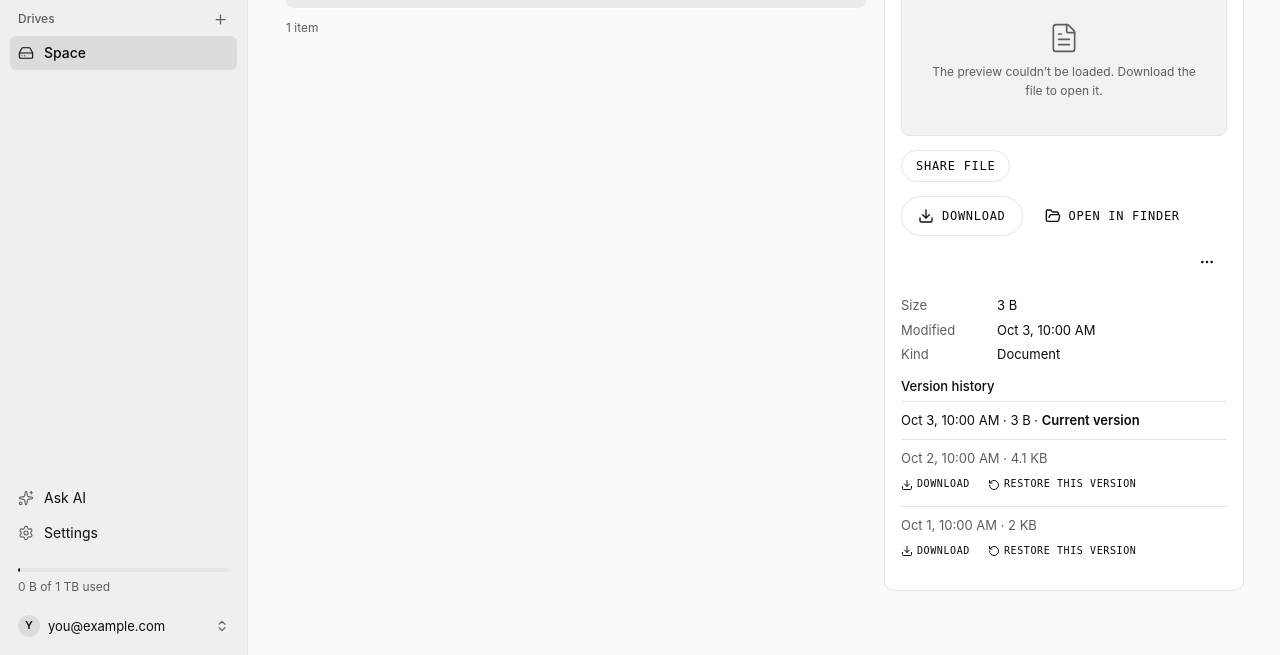
Test: keeps a failed restore in the confirmation and says nothing was changed
(page scrolled)
Expected: the number of list items is 3, [901,401,1227,439]; [901,439,1227,506]; [901,506,1227,572]
Click the button with aria-label "Restore the version from" at [1062, 551], box [980,539,1144,563]
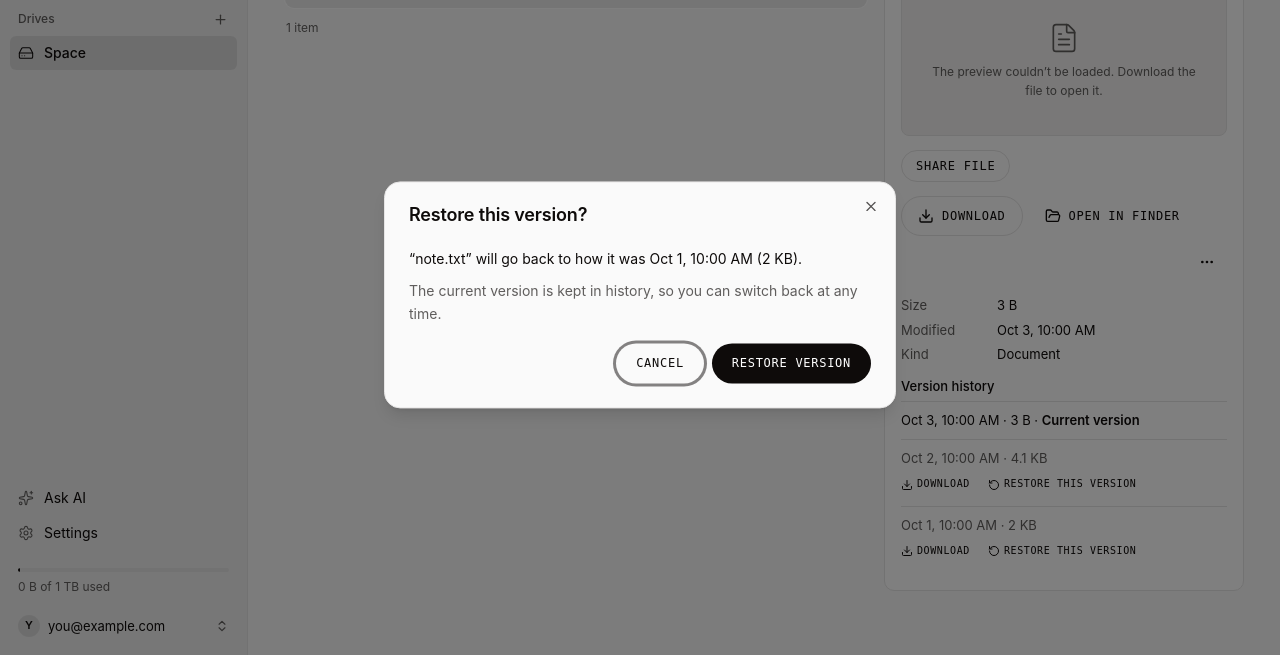
Click the button "Restore version" at [791, 364], box [712,344,871,384]
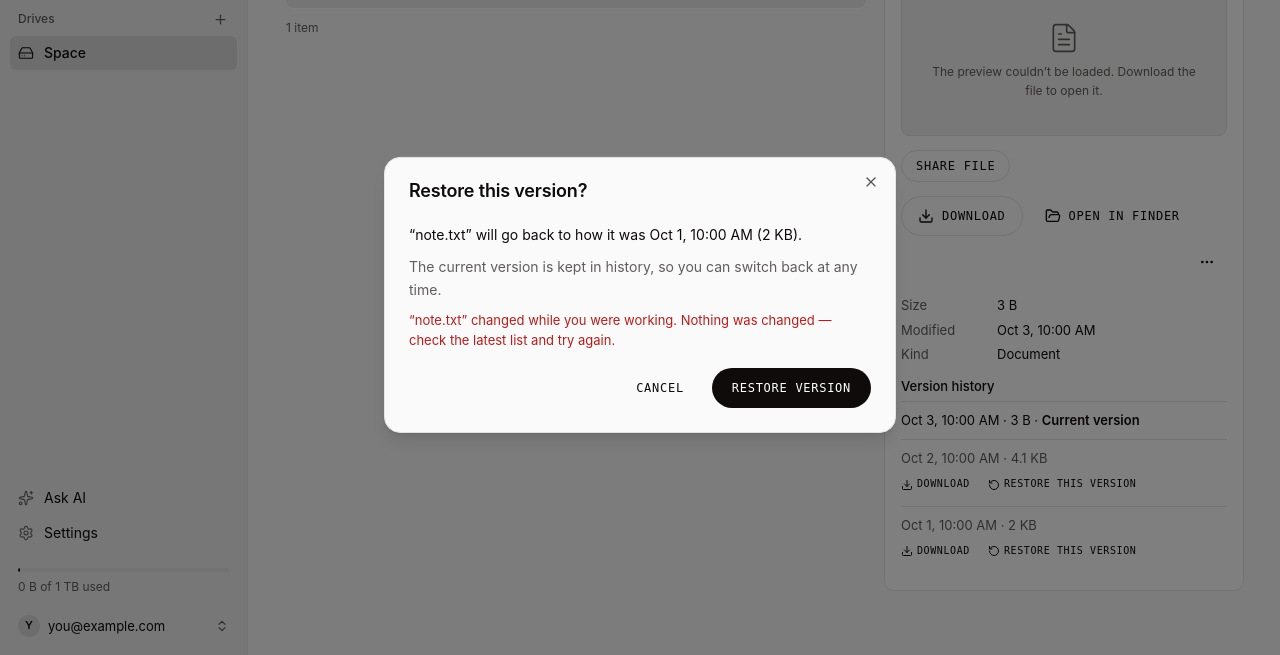
Result: the dialog "Restore this version?" is shown at [384,157,896,433]
Result: the message shows "“note.txt” changed while you were working. Nothing was changed" at [409,312,831,348]
Click the button "Cancel" at [660, 388], box [616,368,704,408]
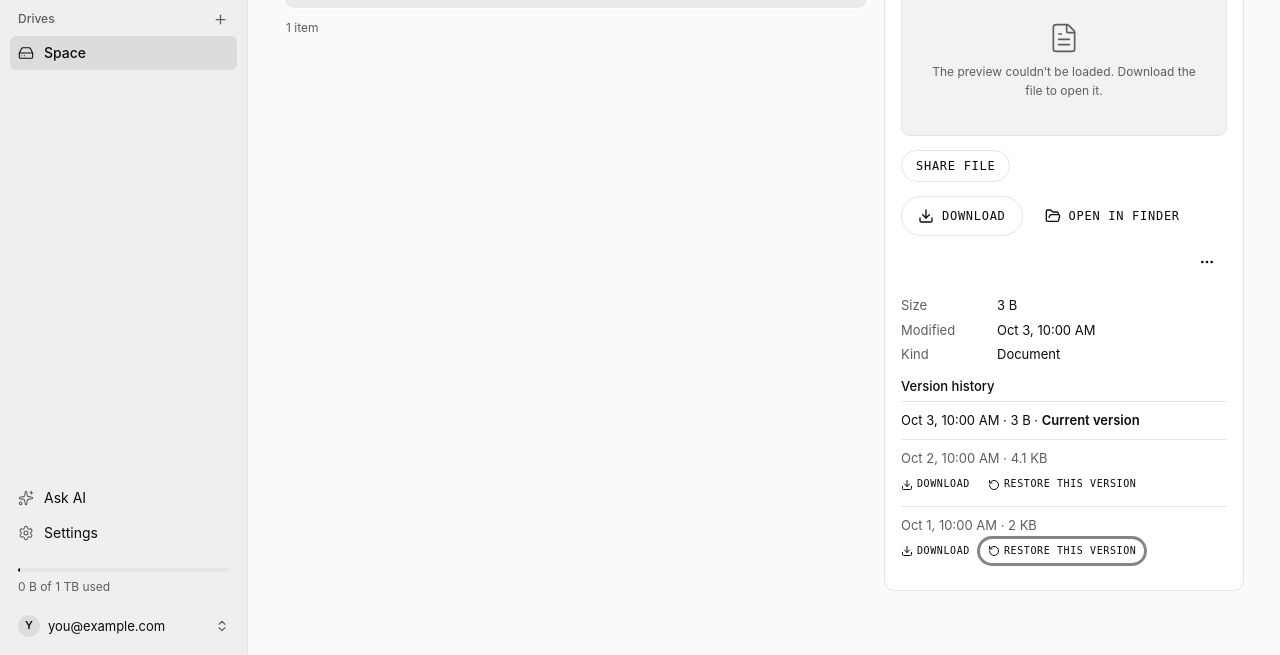
Result: the dialog is gone
